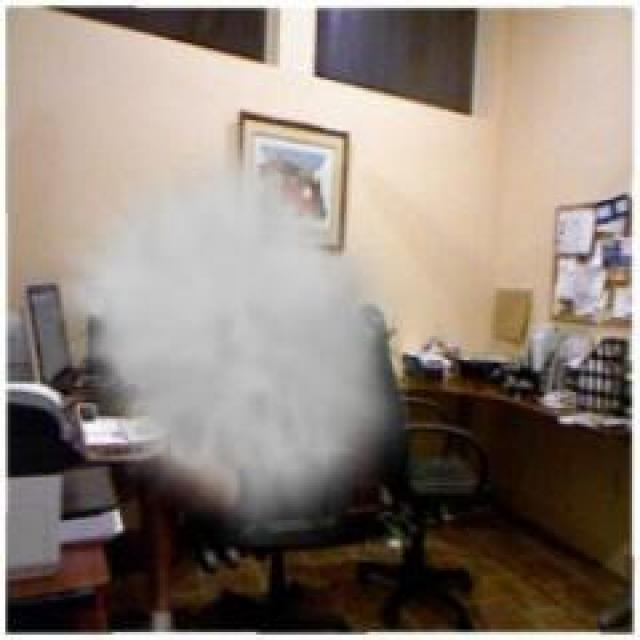Smoke: (82, 148, 416, 530)
